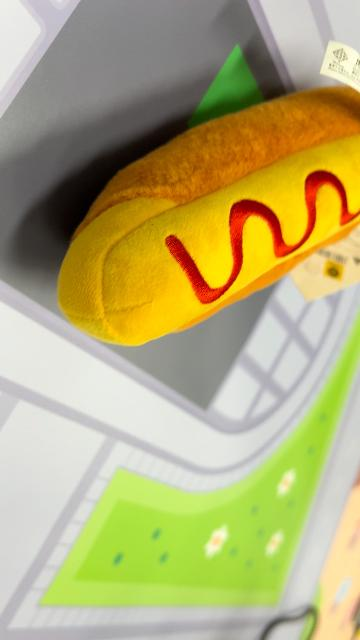hotdog: (55, 84, 358, 348)
